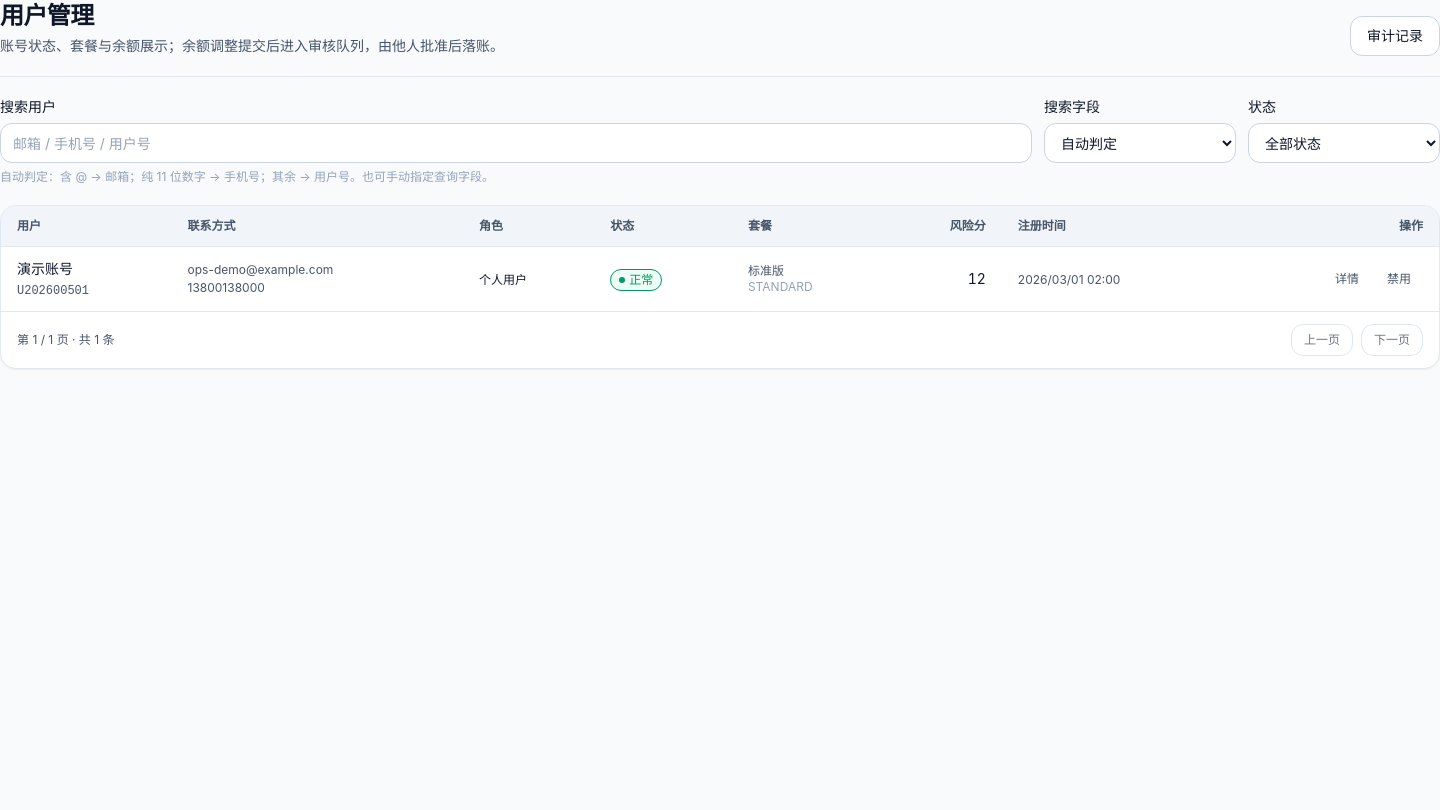
Test case: UsersPage › UsersPage：余额调整提交后提示已提交审核
Expected: the text "演示账号" is shown, [17,260,73,277]
Step 1. Click the button "详情" → (1347, 279), box [1323,263,1371,295]
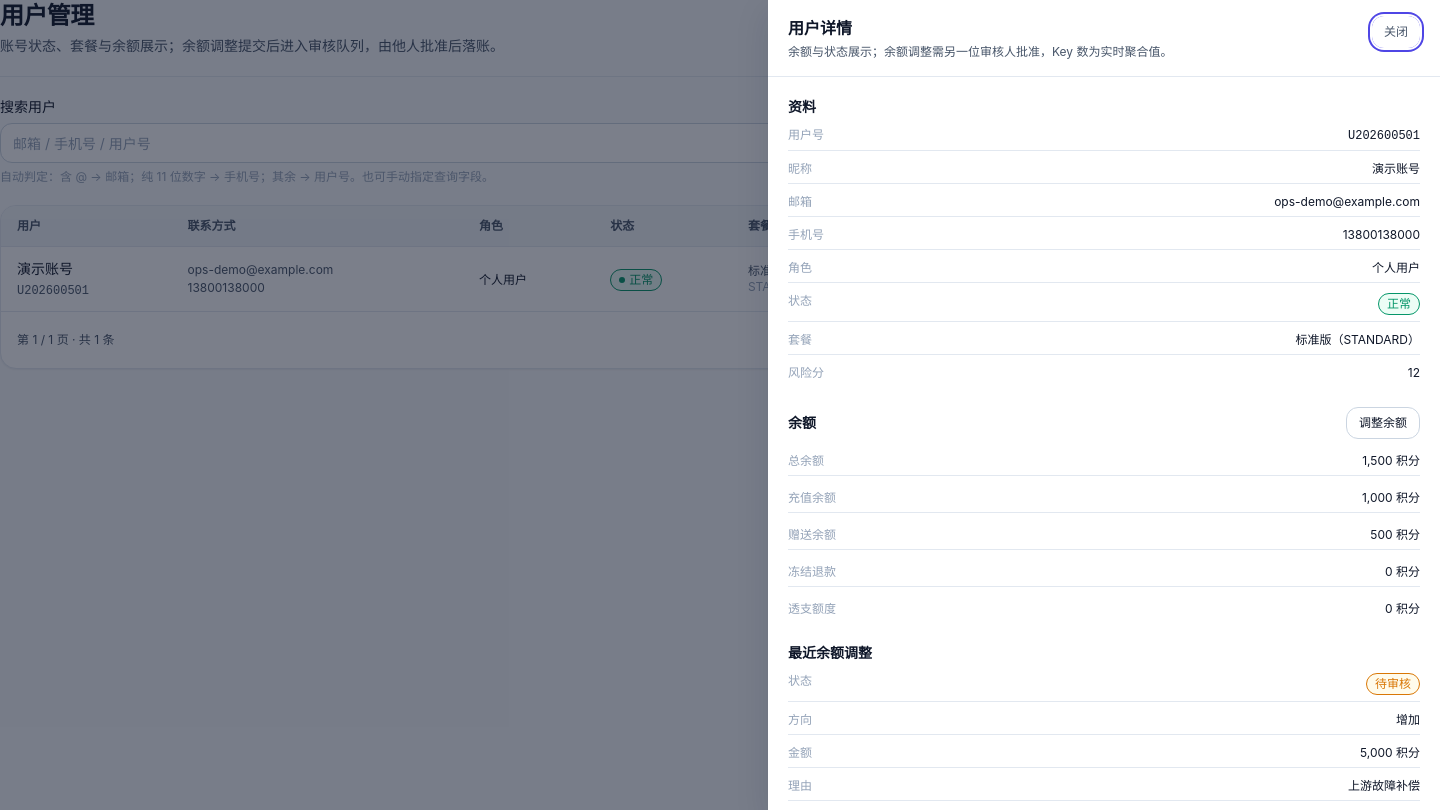
Result: the text "总余额" is shown at [788,453,824,469]
Step 2. Click the button "调整余额" → (1383, 423), box [1346,407,1420,439]
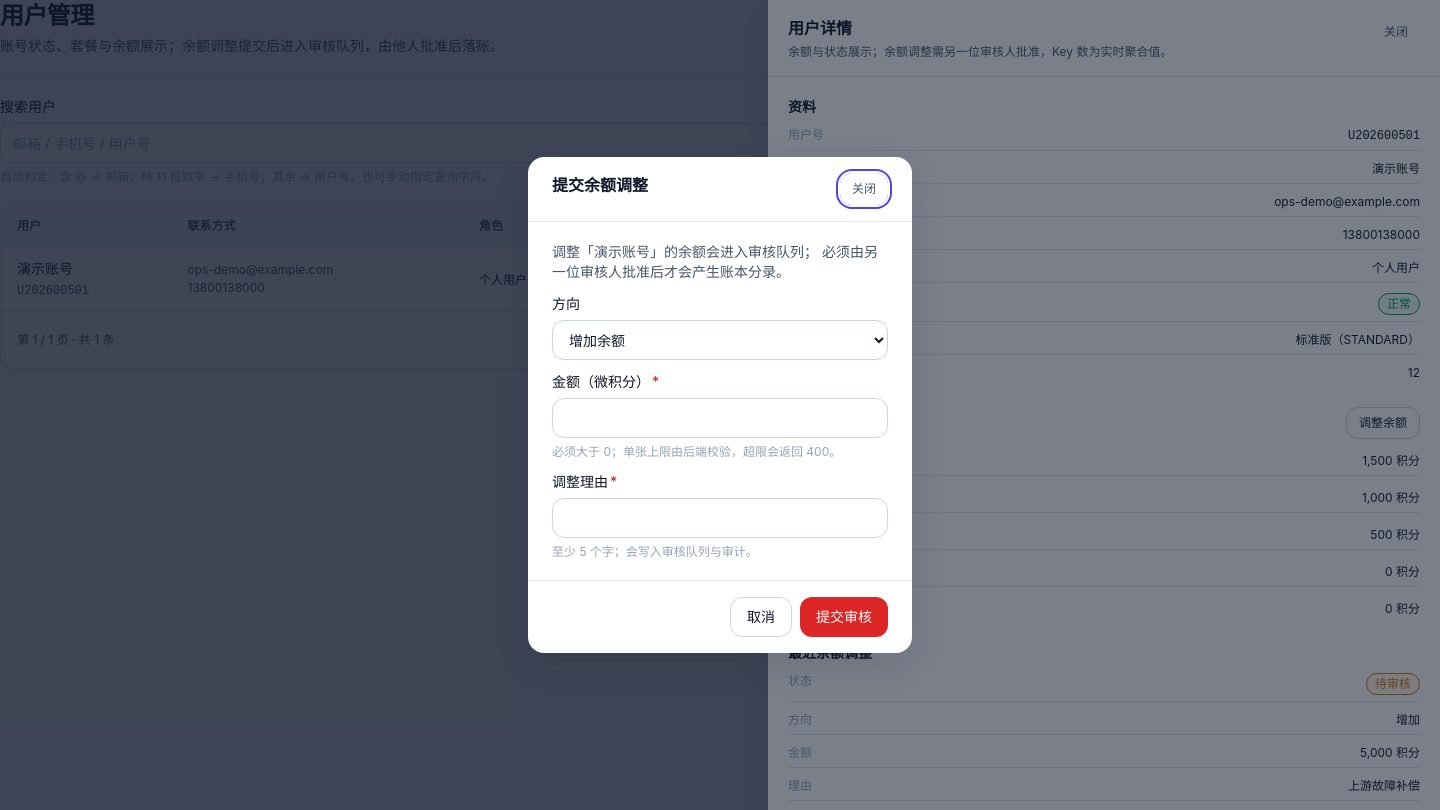
Step 3. Type "5000000" into the field labelled "金额（微积分）*" → (720, 418), box [552,398,888,438]
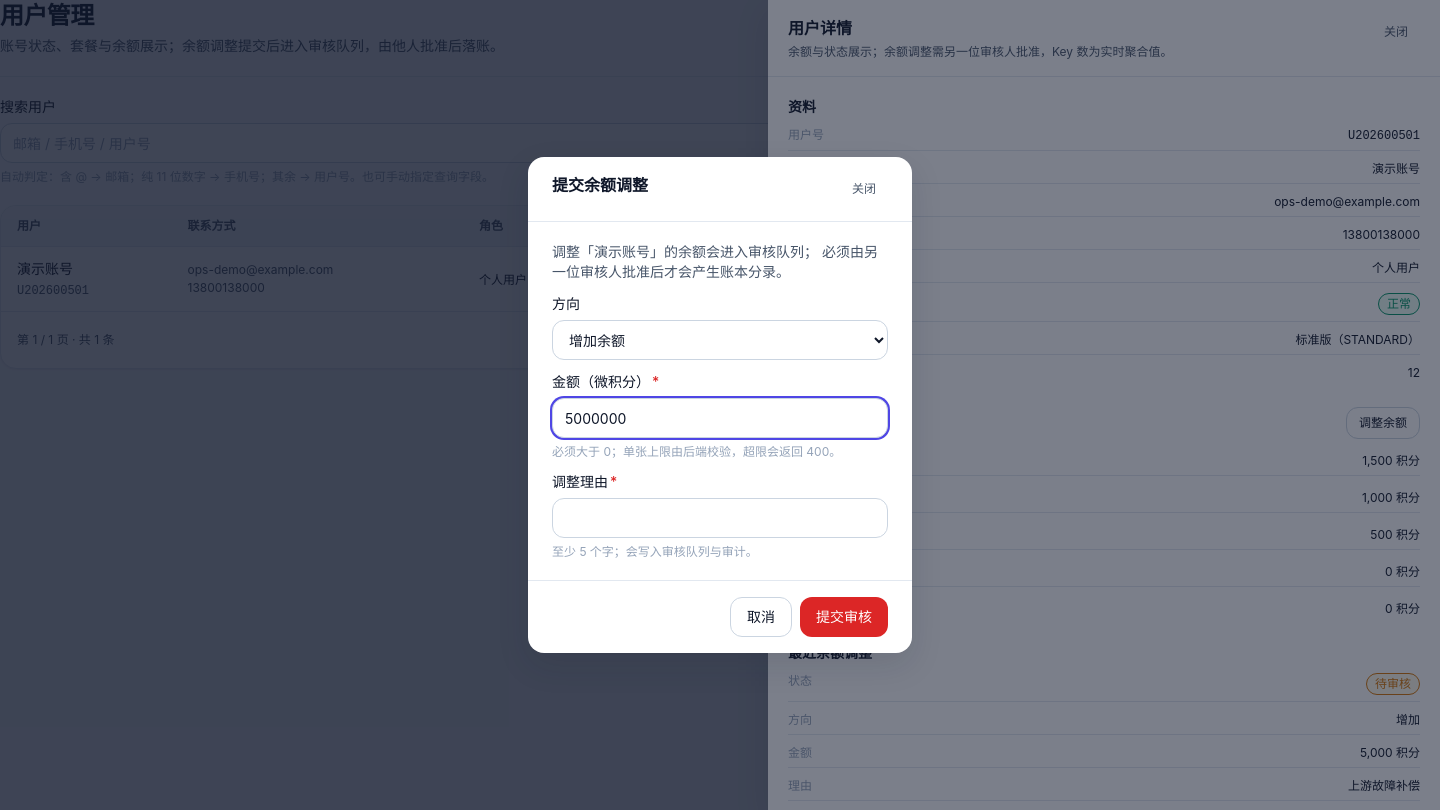
Step 4. Type "客服补偿积分" into the field labelled "调整理由*" → (720, 518), box [552,498,888,538]
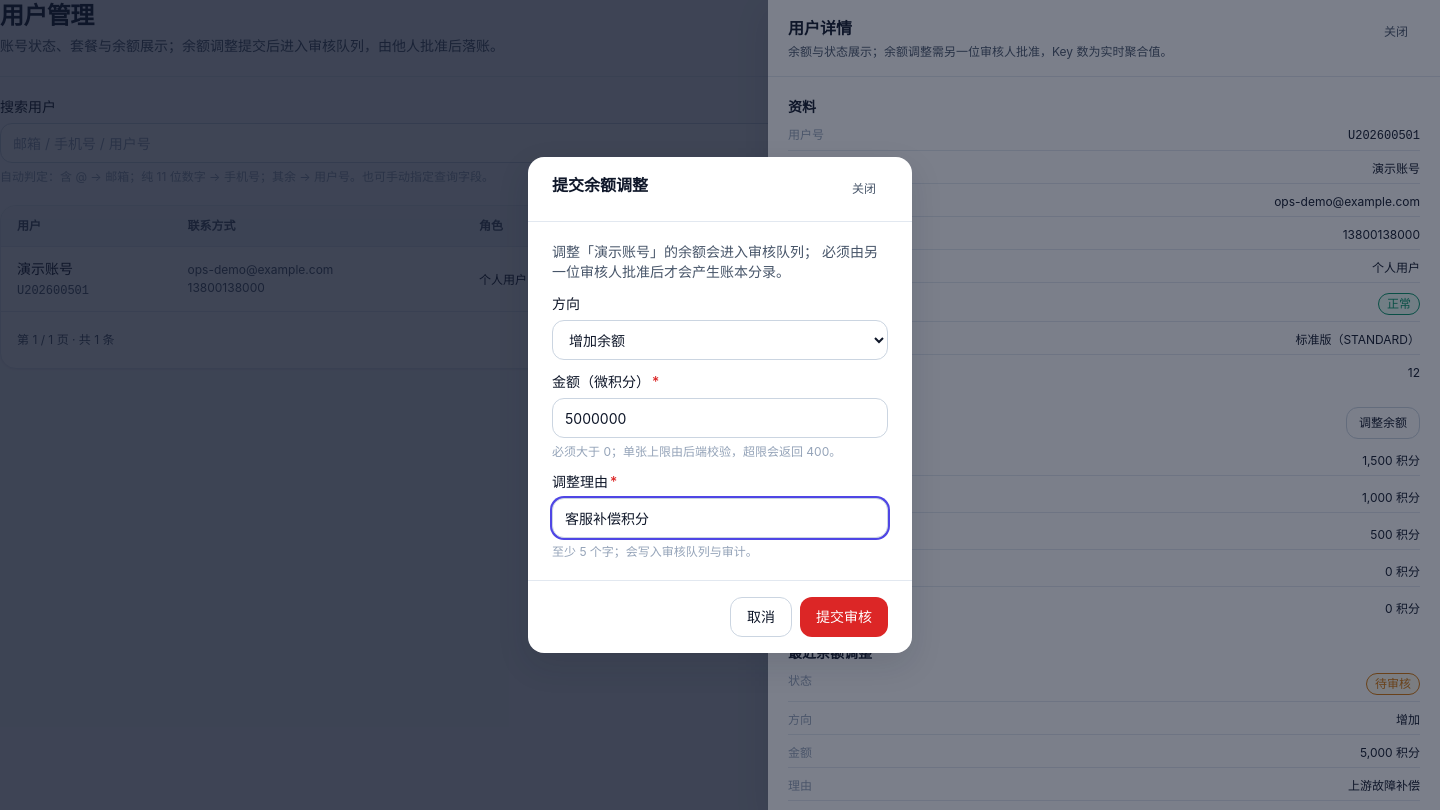
Step 5. Click the button "提交审核" → (844, 617), box [800,597,888,637]
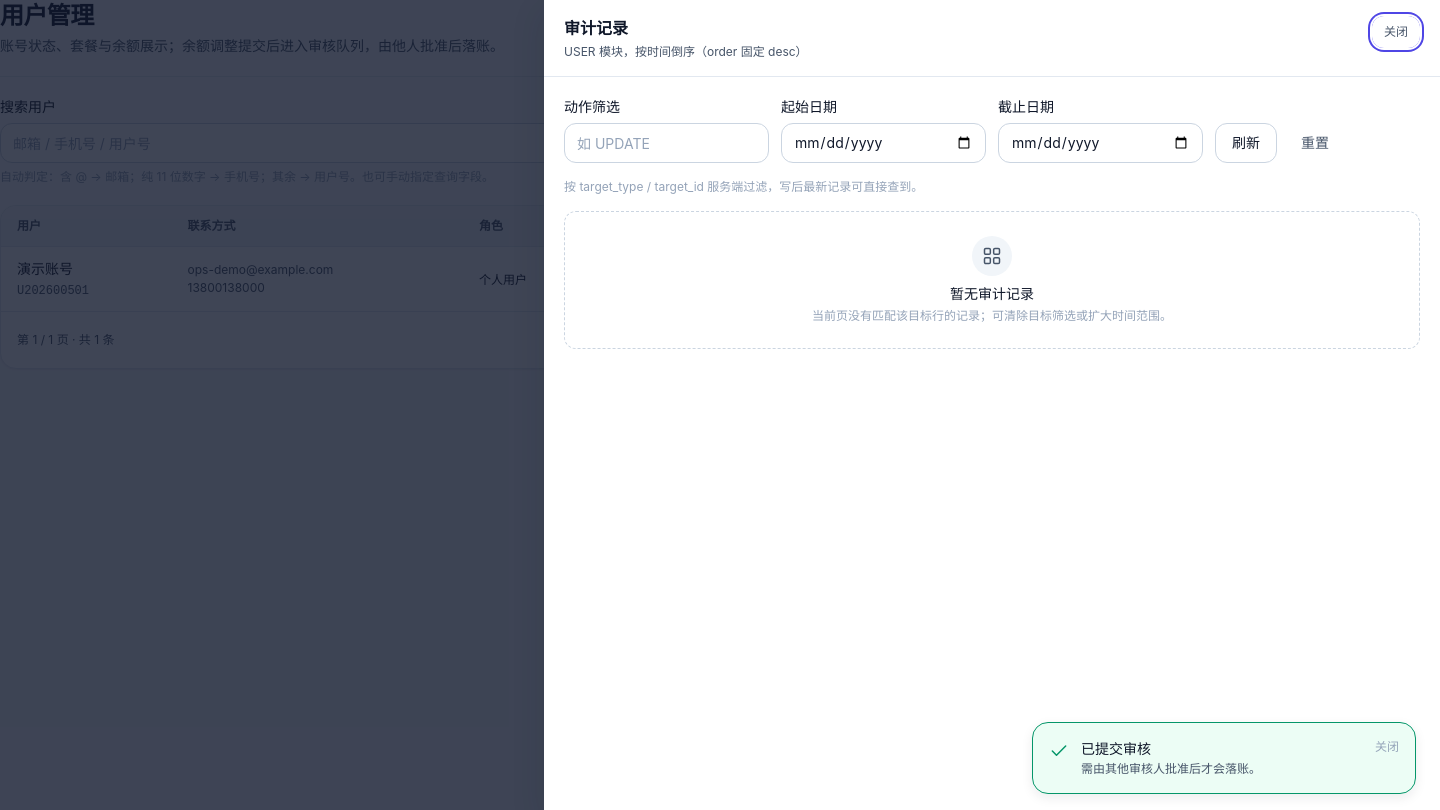
Result: the text "已提交审核" is shown at [1081,740,1151,757]
